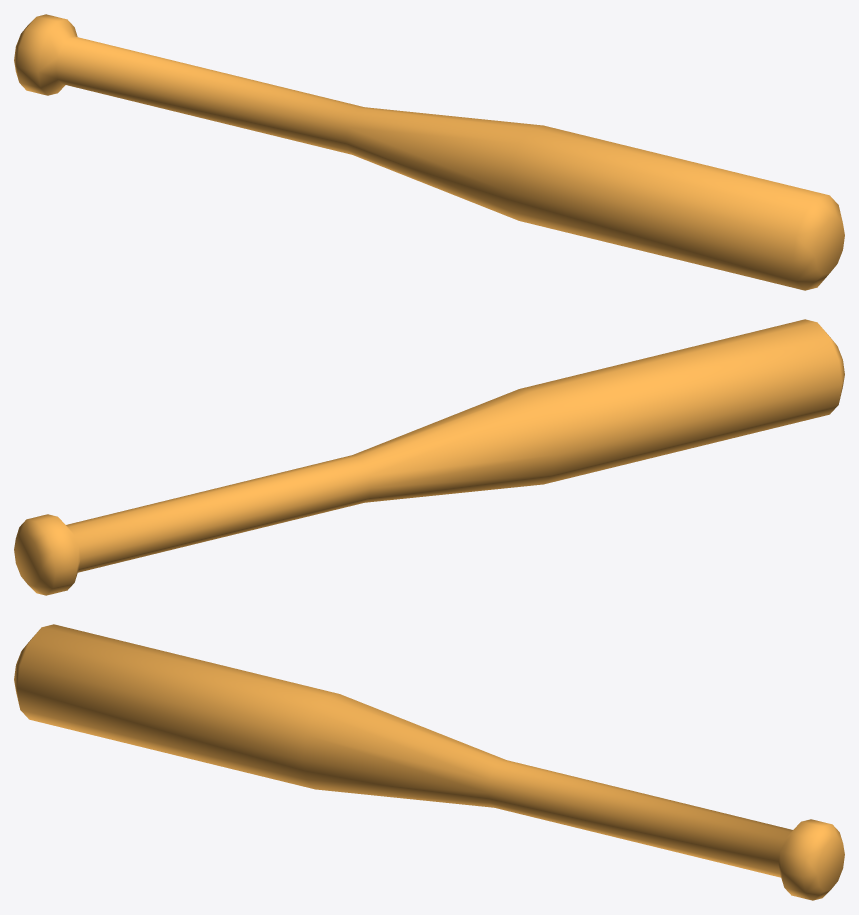
Rendered from Toy82.fbx.
The picture shows the model from 3 angles, top to bottom: view 1: azimuth 90°, elevation 25°; view 2: azimuth 150°, elevation 25°; view 3: azimuth 270°, elevation 25°; orthographic projection.
Parts seen in each view (by area): view 1: Toy82; view 2: Toy82; view 3: Toy82.
Part boxes in pixels (bbox=[...]): Toy82: bbox=[14, 14, 844, 290]; Toy82: bbox=[14, 319, 844, 595]; Toy82: bbox=[14, 624, 844, 900].
Bounding box in the file's own units: 0.1761 × 0.0329 × 0.2773.
